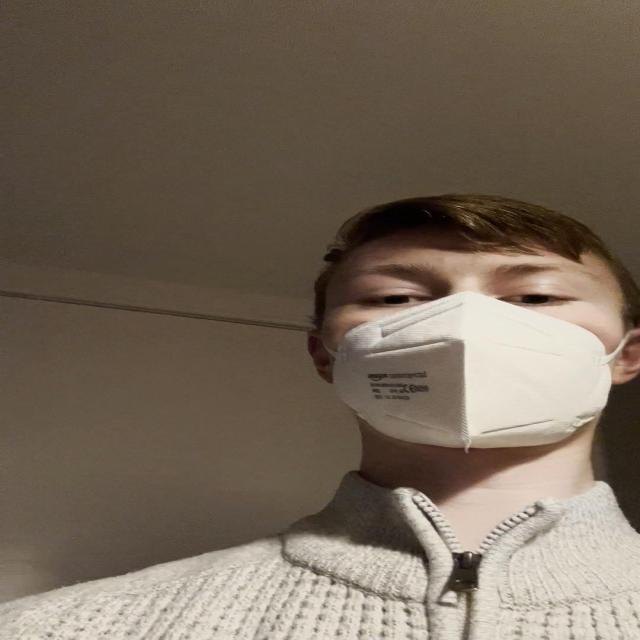no-helmet: (322, 232, 617, 450)
